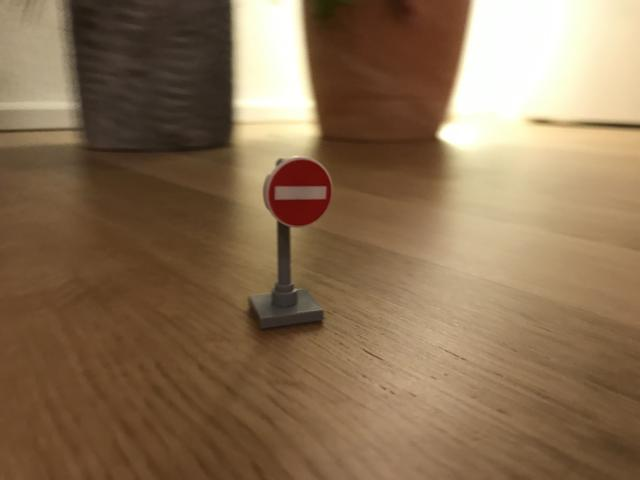verbot der einfahrt: (265, 158, 334, 228)
